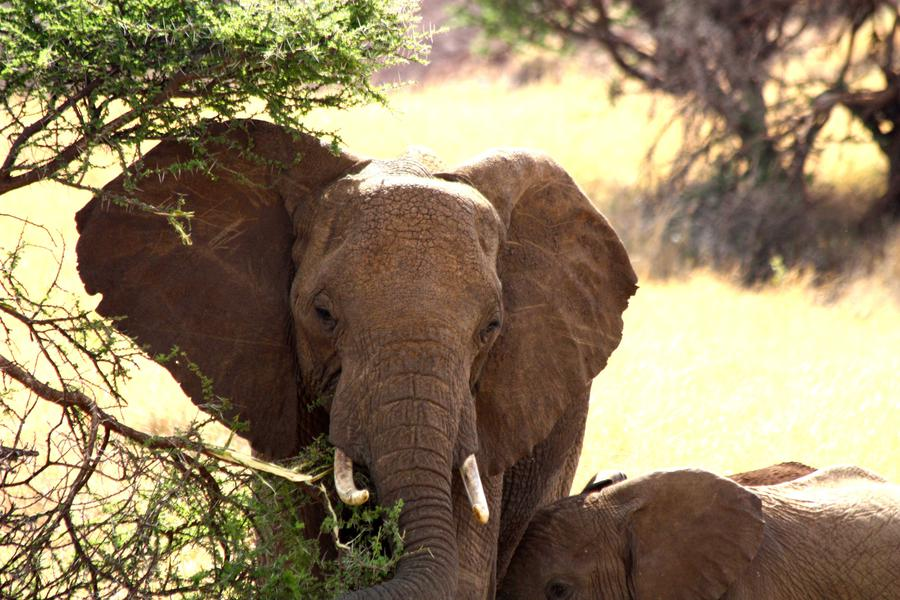elephant: (104, 132, 556, 478)
